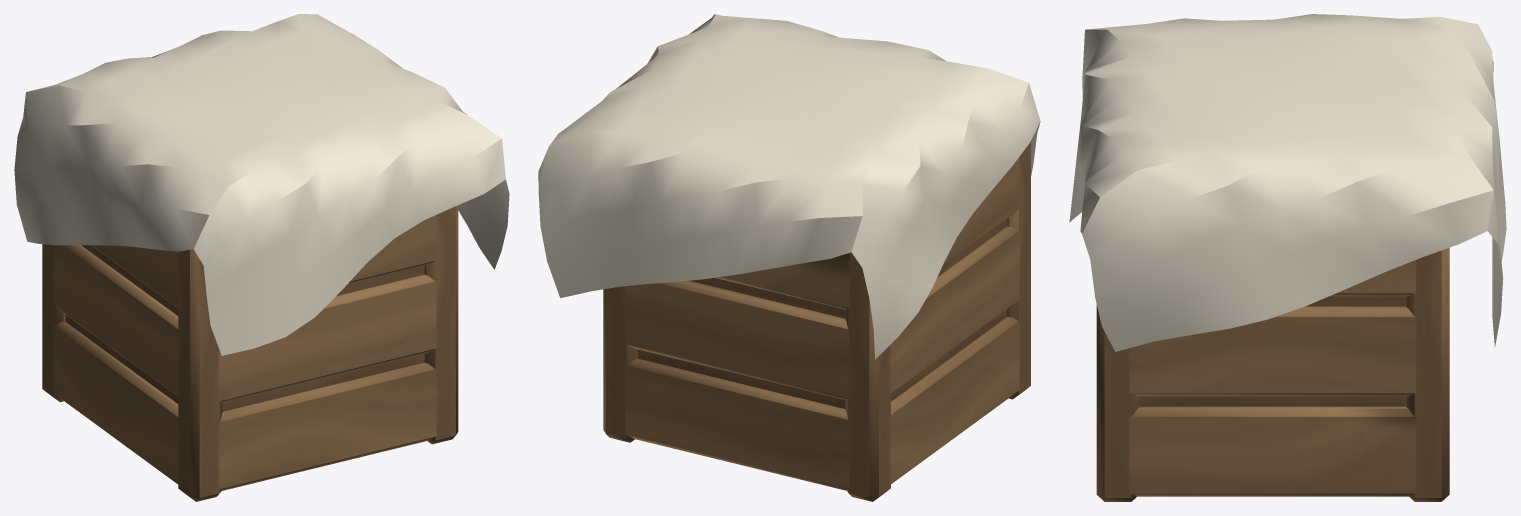
Rendered from crate-cloth.glb.
The picture shows the model from 3 angles, left to right: view 1: azimuth 30°, elevation 25°; view 2: azimuth 150°, elevation 25°; view 3: azimuth 270°, elevation 25°; orthographic projection. The views are drawn at different scales.
Parts seen in each view (by area): view 1: crate-cloth; view 2: crate-cloth; view 3: crate-cloth.
Part boxes in pixels (x1=…): crate-cloth: x1=14, y1=14, x2=509, y2=501; crate-cloth: x1=538, y1=14, x2=1040, y2=501; crate-cloth: x1=1069, y1=14, x2=1506, y2=501.
Bounding box in the file's own units: 0.8222 × 0.74 × 0.8176.
Materials: 2 (1 with a texture image).
